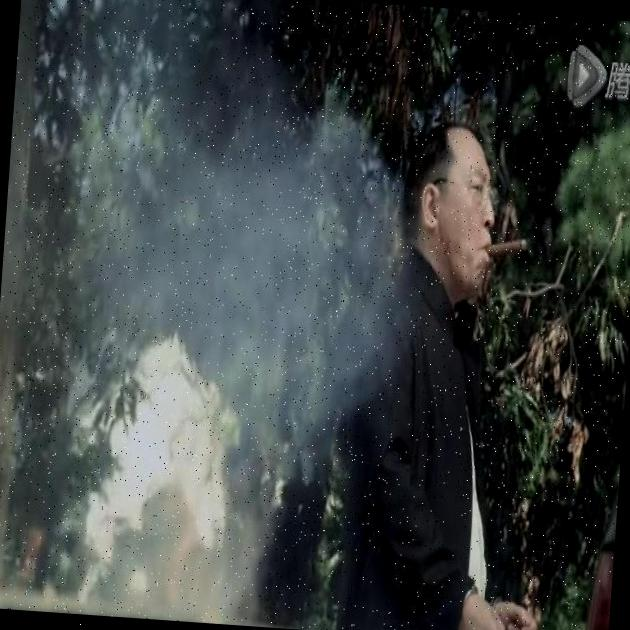smoke: (0, 127, 398, 630)
